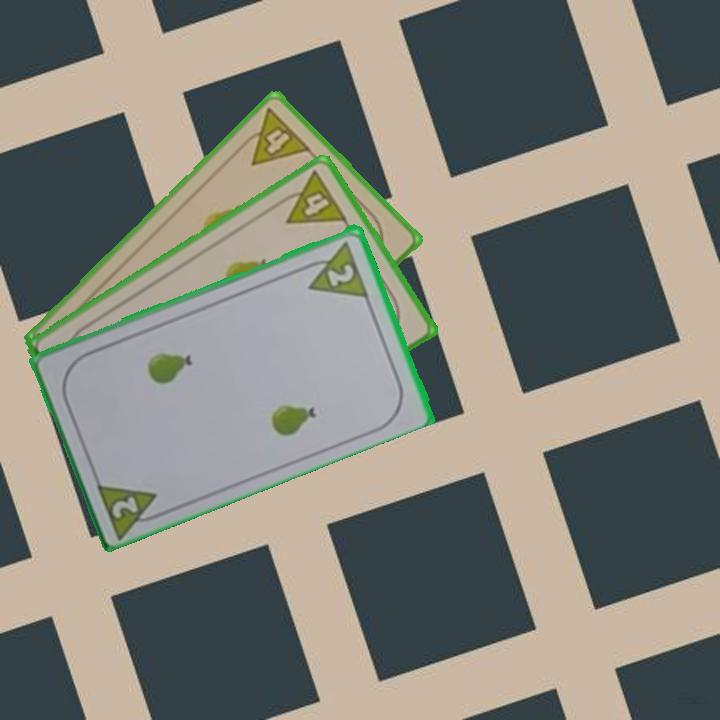2p: (92, 476, 169, 539), (298, 237, 372, 300)
4p: (233, 104, 314, 169), (271, 167, 350, 227)
